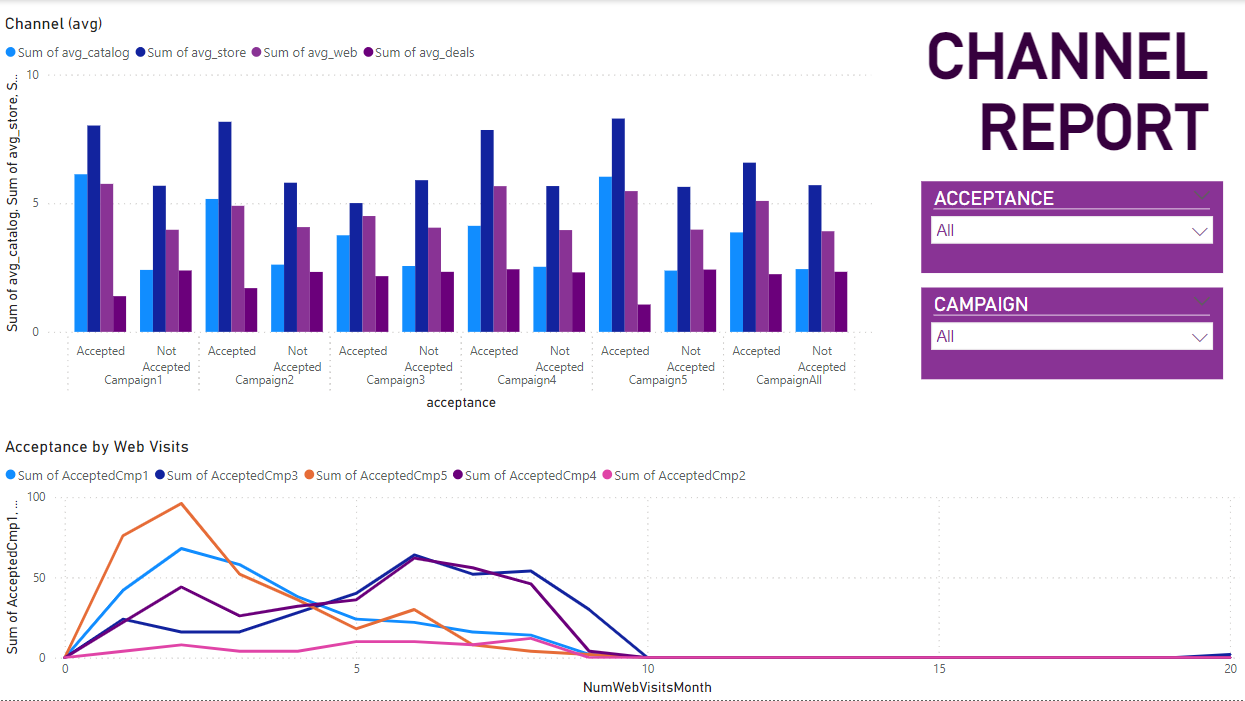

What the dashboard file says about the page in this screenshot:
{"tool":"powerbi","page":{"name":"Channel","canvas":[1280,720],"ordinal":3},"visuals":[{"type":"clusteredColumnChart","title":"Channel (avg)","fields":{"Y":["Sum(public ifood_table_campaign_agg (2).avg_catalog)","Sum(public ifood_table_campaign_agg (2).avg_store)","Sum(public ifood_table_campaign_agg (2).avg_web)","Sum(public ifood_table_campaign_agg (2).avg_deals)"],"Category":["public ifood_table_campaign_agg (2).campaign","public ifood_table_campaign_agg (2).acceptance"]},"box":[0,14.3,904.3,412.9],"z":0},{"type":"textbox","box":[895.7,14.3,352.9,165.7],"z":1000},{"type":"slicer","fields":{"Values":["public ifood_table_campaign_agg (2).acceptance"]},"box":[947.1,186.1,310,94.3],"z":2000},{"type":"slicer","fields":{"Values":["public ifood_table_campaign_agg (2).campaign"]},"box":[947.1,296.1,310,94.3],"z":3000},{"type":"lineChart","title":"Acceptance by Web Visits","fields":{"Category":["public ifood_table_silver.NumWebVisitsMonth"],"Y":["Sum(public ifood_table_silver.AcceptedCmp1)","Sum(public ifood_table_silver.AcceptedCmp3)","Sum(public ifood_table_silver.AcceptedCmp5)","Sum(public ifood_table_silver.AcceptedCmp4)","Sum(public ifood_table_silver.AcceptedCmp2)"]},"box":[0,448.6,1280,271.4],"z":4000}]}

Visuals, with their boxes in screenshot pixels (x1, y1, x2, y2), scaled from the page's 1280x720 canvas onto the 1245x701 screenshot:
"Channel (avg)" clusteredColumnChart: (0, 14, 880, 416)
textbox: (871, 14, 1214, 175)
slicer - public ifood_table_campaign_agg (2).acceptance: (921, 181, 1223, 273)
slicer - public ifood_table_campaign_agg (2).campaign: (921, 288, 1223, 380)
"Acceptance by Web Visits" lineChart: (0, 437, 1244, 700)
